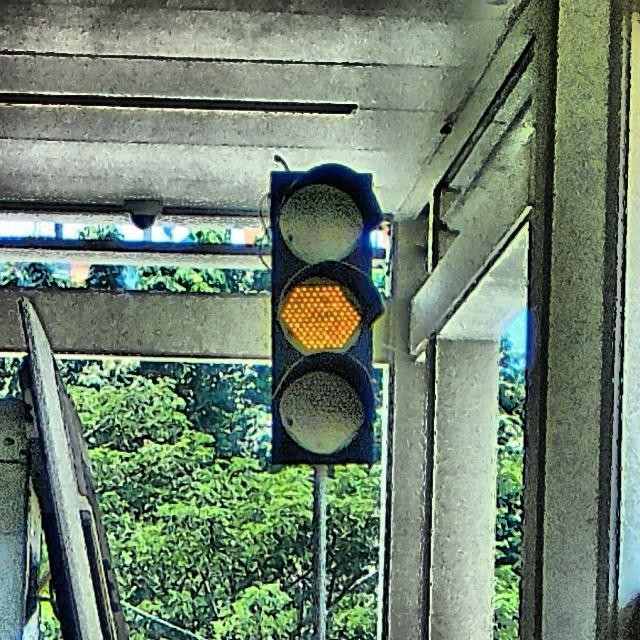yellow: (268, 168, 377, 467)
